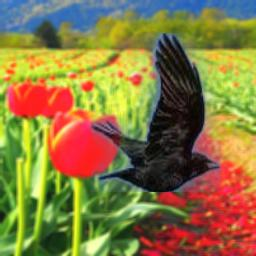Crow: (91, 33, 221, 192)
